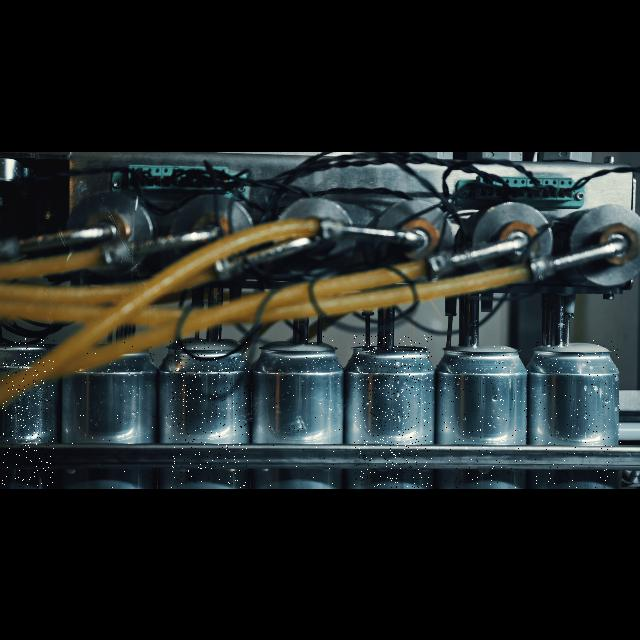empty: (66, 340, 156, 488), (535, 340, 621, 488), (440, 346, 528, 488), (354, 334, 432, 488), (169, 340, 249, 488), (266, 336, 342, 488), (2, 338, 54, 488)
